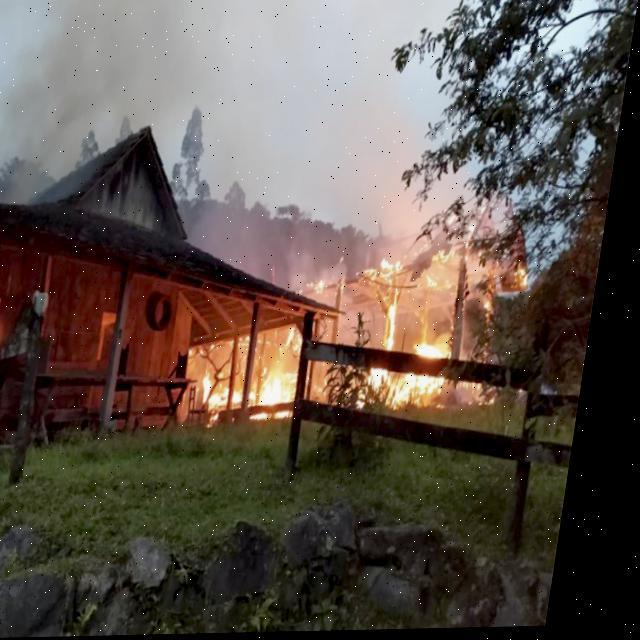Fire: (0, 0, 464, 298), (208, 365, 310, 426), (366, 368, 453, 411), (378, 296, 412, 351), (372, 258, 414, 282), (419, 340, 462, 362), (294, 325, 318, 357), (313, 277, 337, 297), (522, 272, 544, 290), (0, 322, 9, 352)
